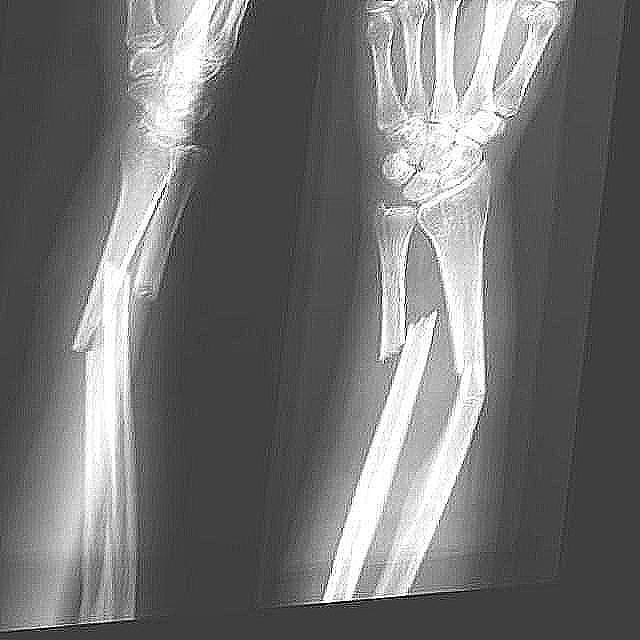bone: (365, 293, 444, 378), (444, 346, 512, 422), (113, 255, 176, 332), (67, 302, 112, 375)
